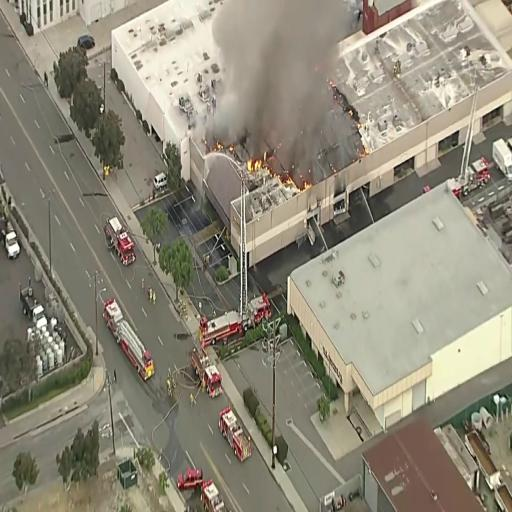smoke: (237, 0, 321, 119)
